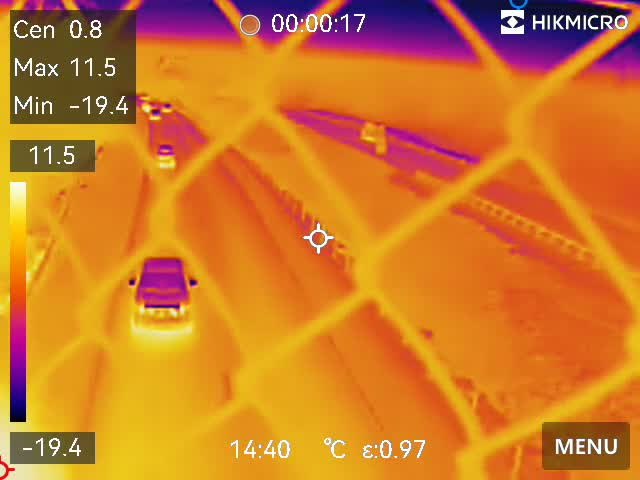largeCar: (124, 243, 200, 339)
smallCar: (153, 139, 179, 173)
vehicle: (145, 106, 166, 122), (162, 101, 173, 112)
